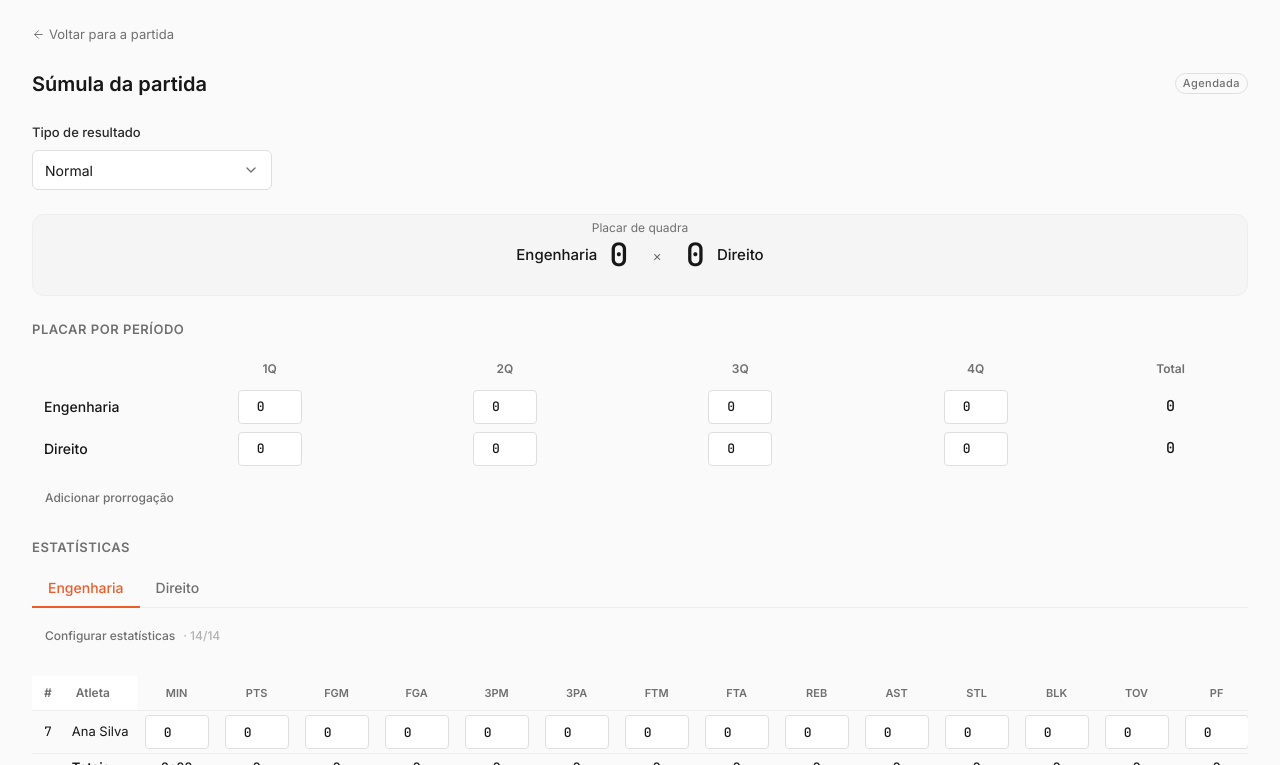
Test case: MatchSumulaPage — DEFAULT › requires an offending participant before DEFAULT confirmation
The width and height of the screenshot is (1280, 765).
Expected: the heading "Súmula da partida" is shown, [32,68,207,98]
Click the button named "Tipo de resultado": click(152, 170) [32,150,272,190]
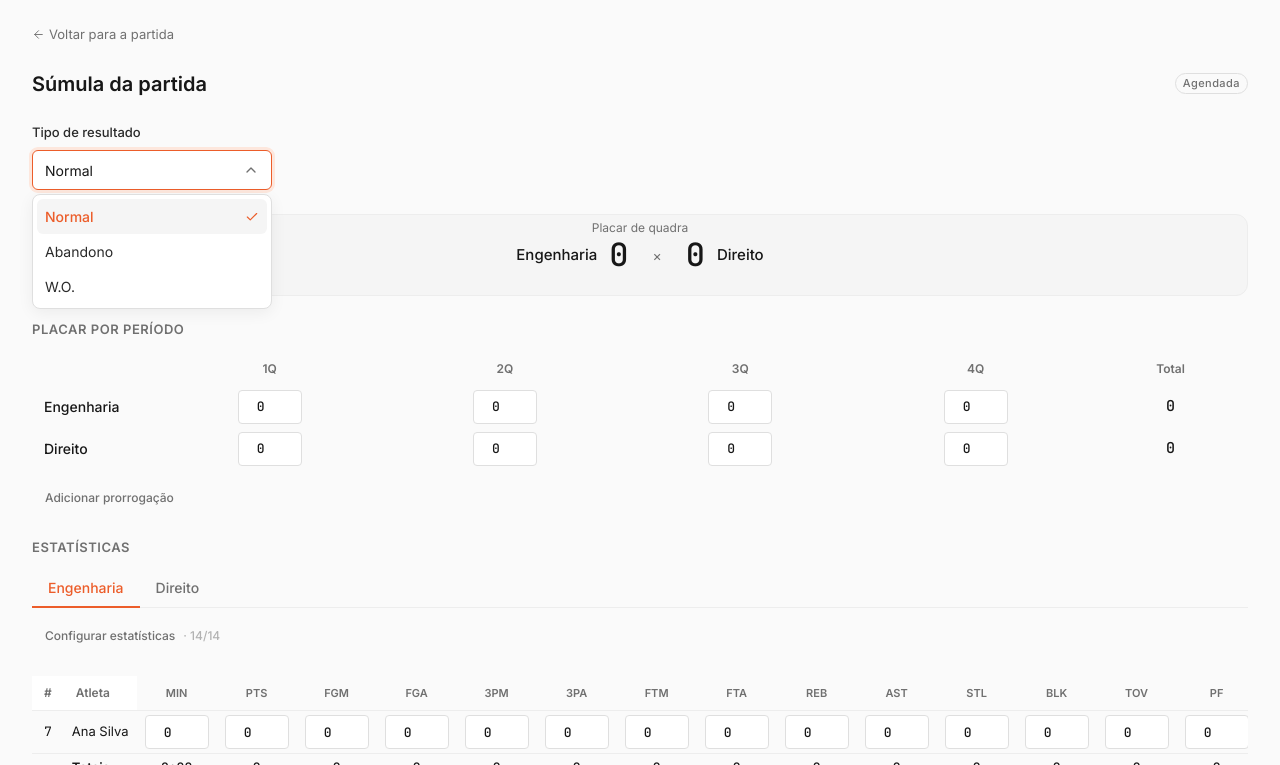
Click the option "Abandono": click(79, 252) [45,243,113,260]
(page scrolled)
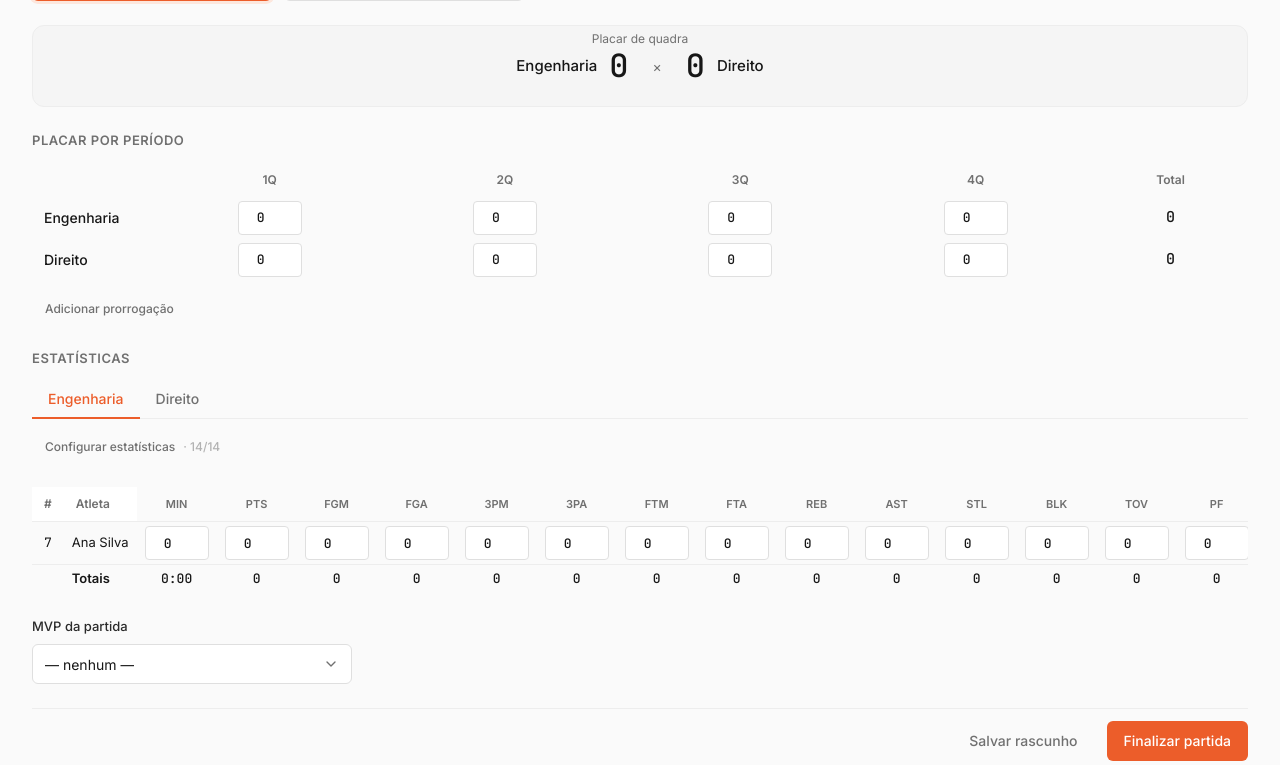
Click the button "Finalizar partida": click(1177, 741) [1107,721,1248,761]
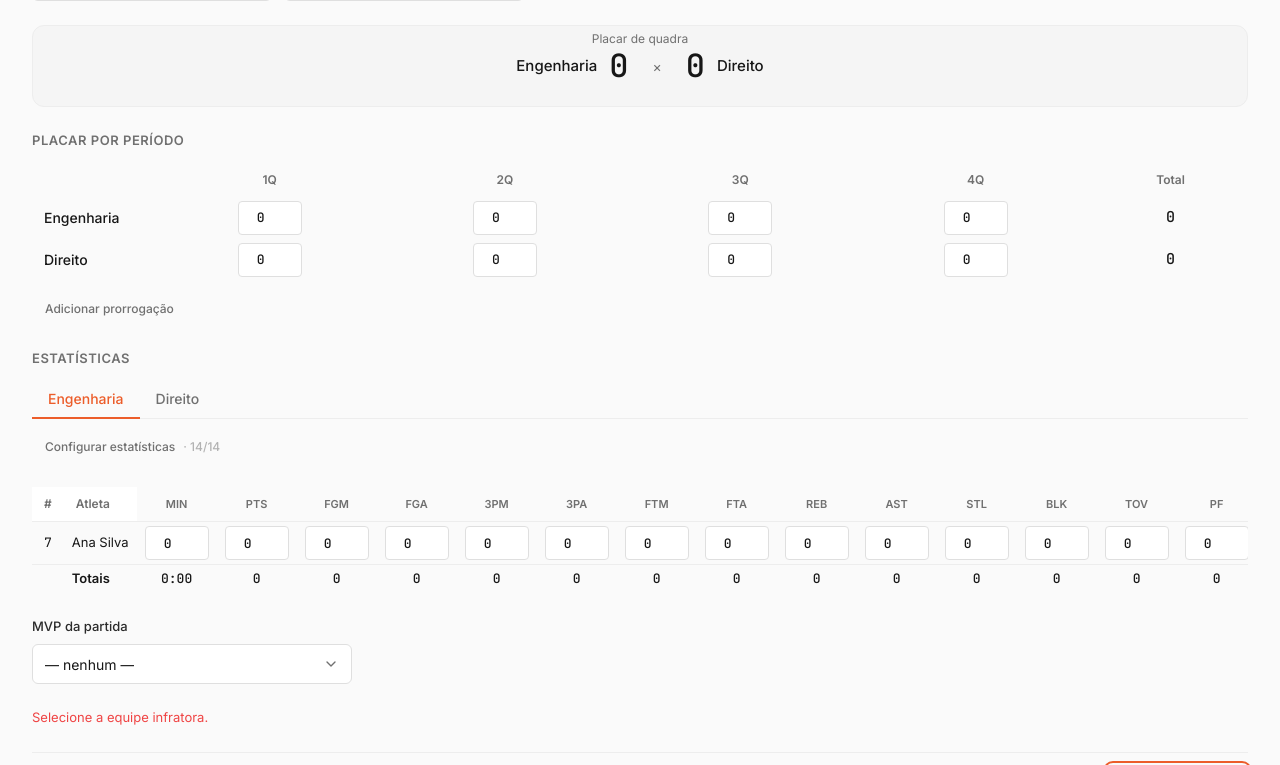
Expected: the message reads "Selecione a equipe infratora.", [32,709,208,725]
